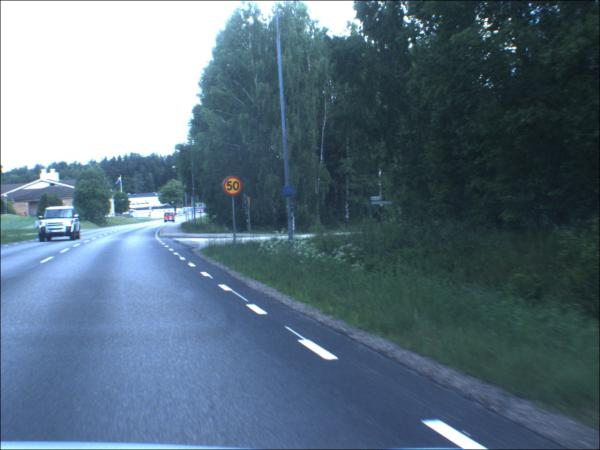50_SIGN: (224, 175, 245, 198)
GIVE_WAY: (249, 198, 254, 209)
